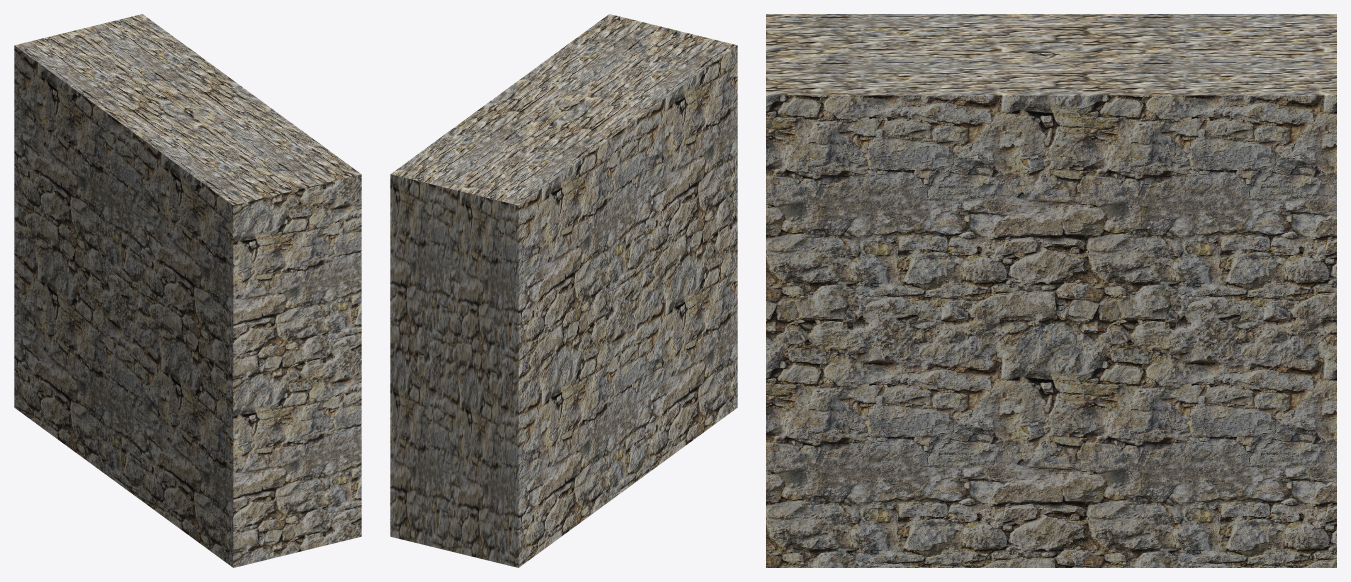
File: Front_plain_wall.fbx
3 views of the same model, side by side, from view 1: azimuth 30°, elevation 25°; view 2: azimuth 150°, elevation 25°; view 3: azimuth 270°, elevation 25° (orthographic). The views are drawn at different scales.
Parts seen in each view (by area): view 1: Cube.045; view 2: Cube.045; view 3: Cube.045.
Part boxes in pixels (box(x1,y1,x2,y2)): Cube.045: box(14, 14, 361, 567); Cube.045: box(390, 14, 737, 567); Cube.045: box(766, 14, 1336, 567).
Bounding box in the file's own units: 124 × 335 × 367.
1 material, 1 textured.
